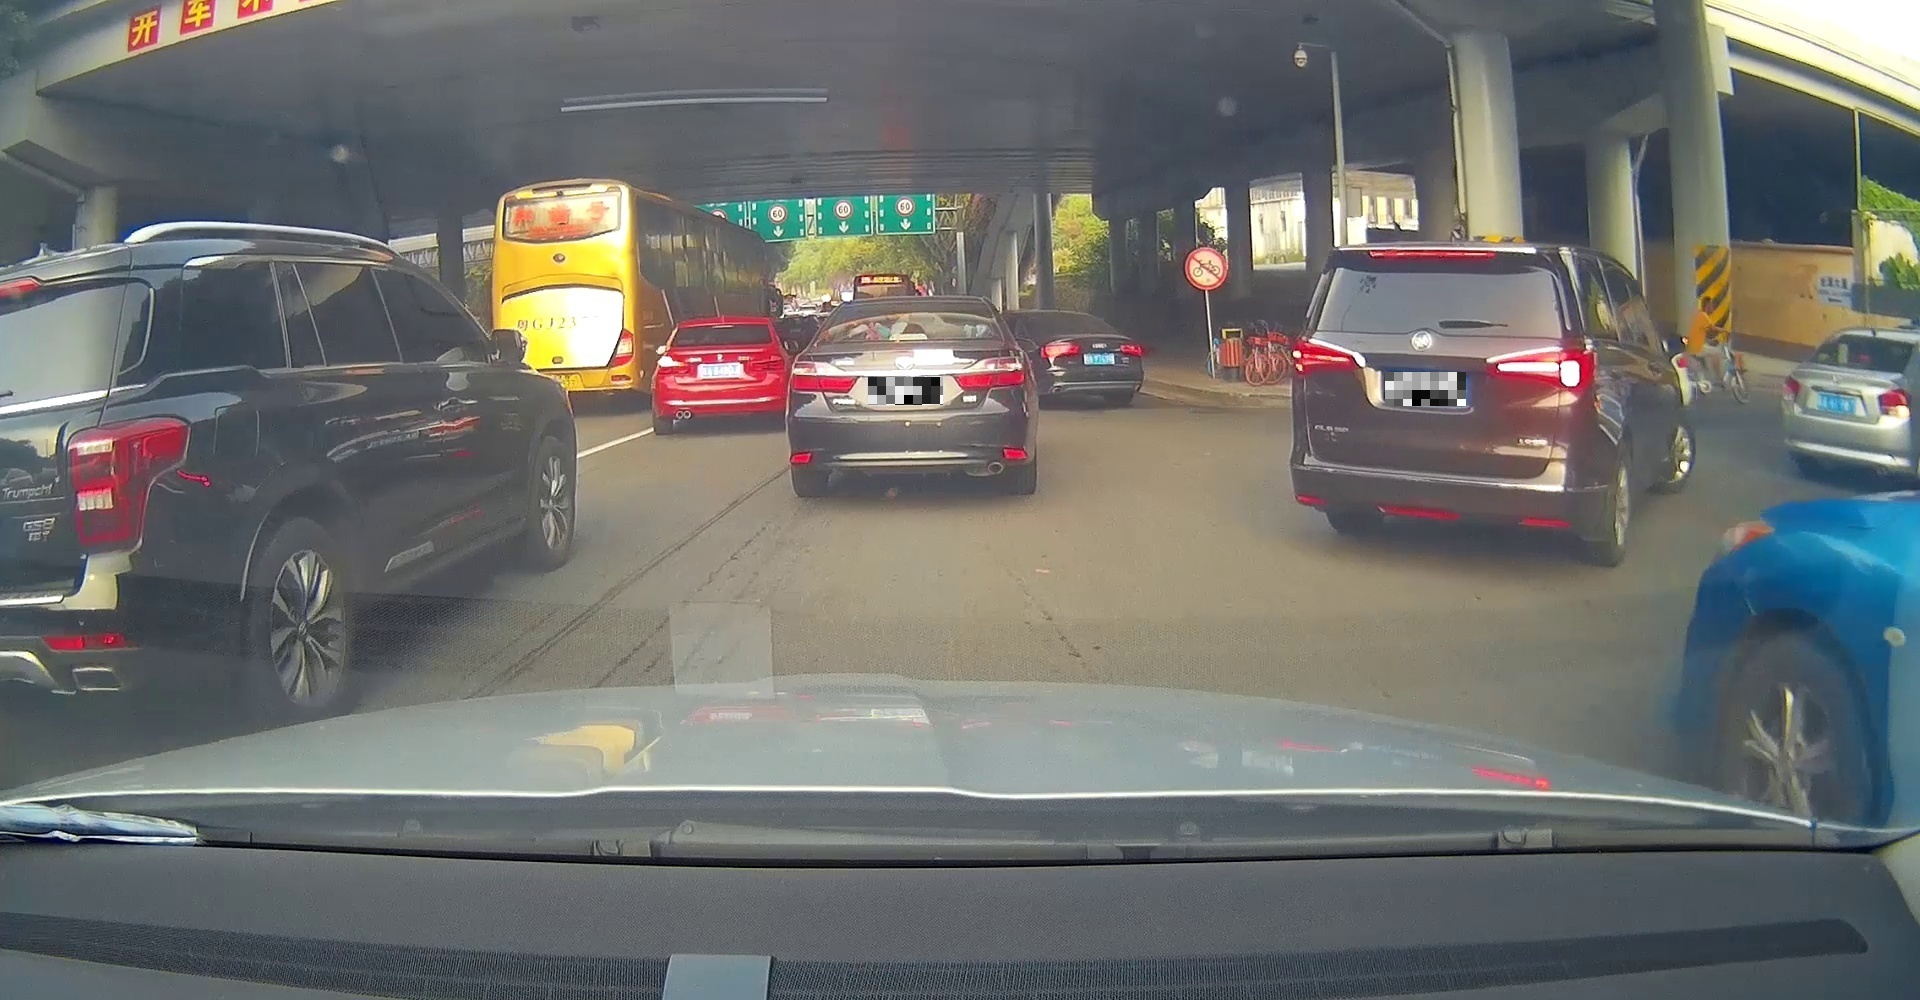L_light: (1289, 334, 1368, 376), (790, 360, 858, 393), (657, 358, 690, 374), (1782, 376, 1801, 402)
R_light: (1484, 346, 1597, 395), (952, 357, 1027, 390), (1878, 388, 1912, 419), (749, 355, 783, 371)
T_light: (1368, 249, 1495, 259), (889, 332, 928, 341), (1841, 360, 1865, 371), (712, 324, 734, 330)
day-left: (654, 316, 786, 435)
day-no: (787, 294, 1036, 496)
day-right: (1288, 242, 1603, 563), (1780, 325, 1920, 489)
plate_1: (869, 377, 943, 405)
plate_2: (1385, 372, 1465, 406)
